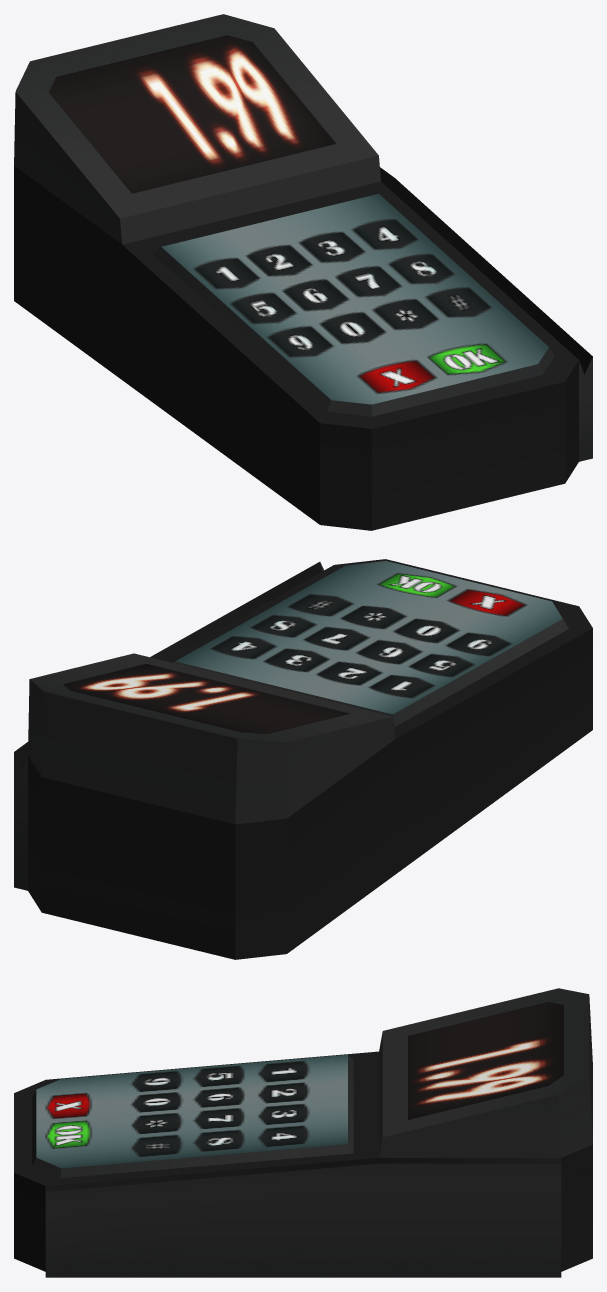
File: Credit_Card_Machine_5.FBX
3 views of the same model, one above another, from view 1: azimuth 30°, elevation 25°; view 2: azimuth 150°, elevation 25°; view 3: azimuth 270°, elevation 25° (orthographic). The views are drawn at different scales.
Parts seen in each view (by area): view 1: Credit_Card_Machine; view 2: Credit_Card_Machine; view 3: Credit_Card_Machine.
Boxes of the visible parts, x1,y1,x2,y2 form: Credit_Card_Machine: (14,14,592,530); Credit_Card_Machine: (14,559,592,959); Credit_Card_Machine: (14,988,592,1277).
Bounding box in the file's own units: 52.7 × 40.5 × 115.
